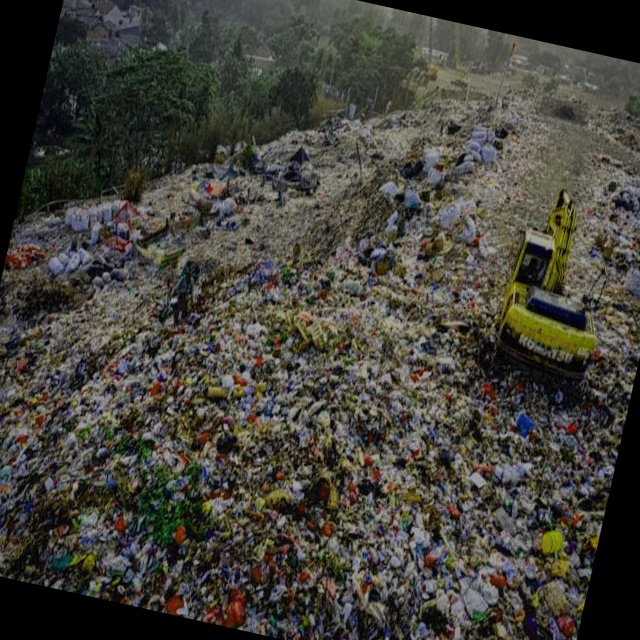contaminated_water: (13, 13, 627, 627)
oil_spill: (0, 353, 448, 640), (463, 331, 640, 640), (0, 0, 69, 328), (364, 0, 640, 63)
turbid_water: (0, 0, 640, 640)
